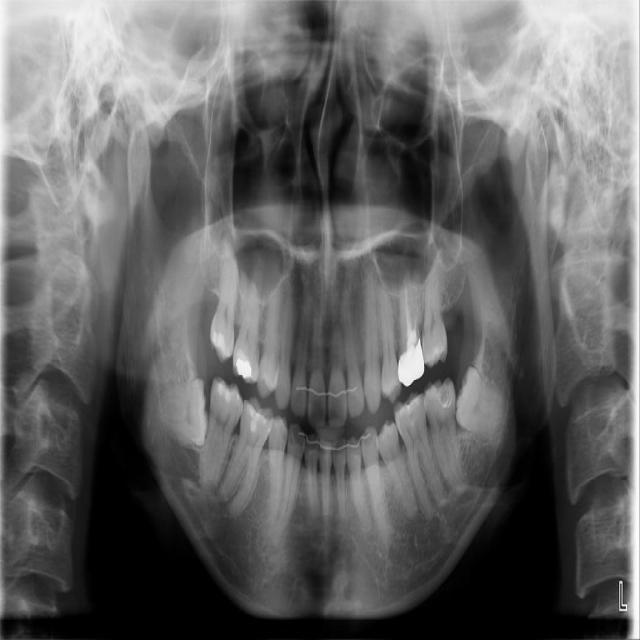Crown: (398, 339, 424, 388)
Filling: (217, 381, 241, 406), (248, 403, 267, 433), (436, 384, 451, 408), (237, 359, 252, 379)
Root Canal Treatment: (405, 282, 415, 344)
impacted tooth: (457, 367, 509, 453), (155, 378, 207, 447)
